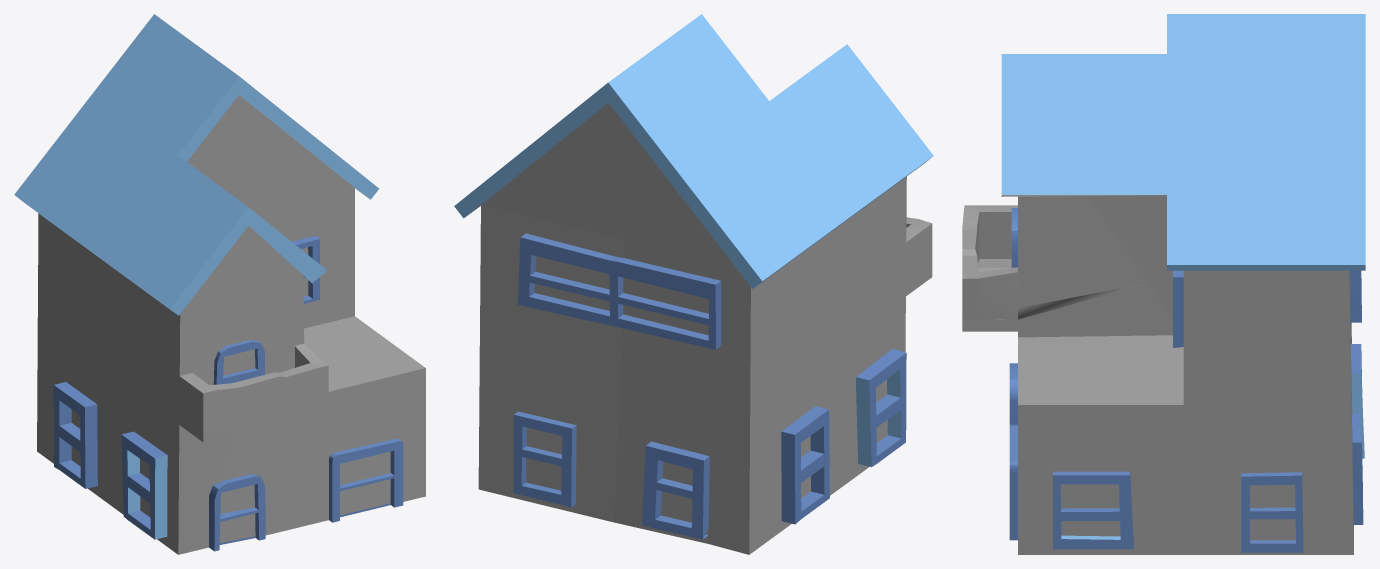
File: House 1 Pivot Fix.fbx
The picture shows the model from 3 angles, left to right: view 1: azimuth 30°, elevation 25°; view 2: azimuth 150°, elevation 25°; view 3: azimuth 270°, elevation 25°; orthographic projection. The views are drawn at different scales.
Visible parts, largest first — view 1: polySurface3, polySurface4, polySurface5; view 2: polySurface3, polySurface4, polySurface5; view 3: polySurface3, polySurface5, polySurface4.
Part boxes in pixels (<box>): polySurface3: <box>14,14,382,404</box>; polySurface4: <box>37,320,425,554</box>; polySurface5: <box>84,156,328,442</box>; polySurface3: <box>454,14,855,539</box>; polySurface4: <box>678,297,906,554</box>; polySurface5: <box>769,44,933,334</box>; polySurface3: <box>1088,14,1365,554</box>; polySurface5: <box>962,54,1166,331</box>; polySurface4: <box>978,283,1234,554</box>.
Bounding box in the file's own units: 0.2283 × 0.3148 × 0.2436.
